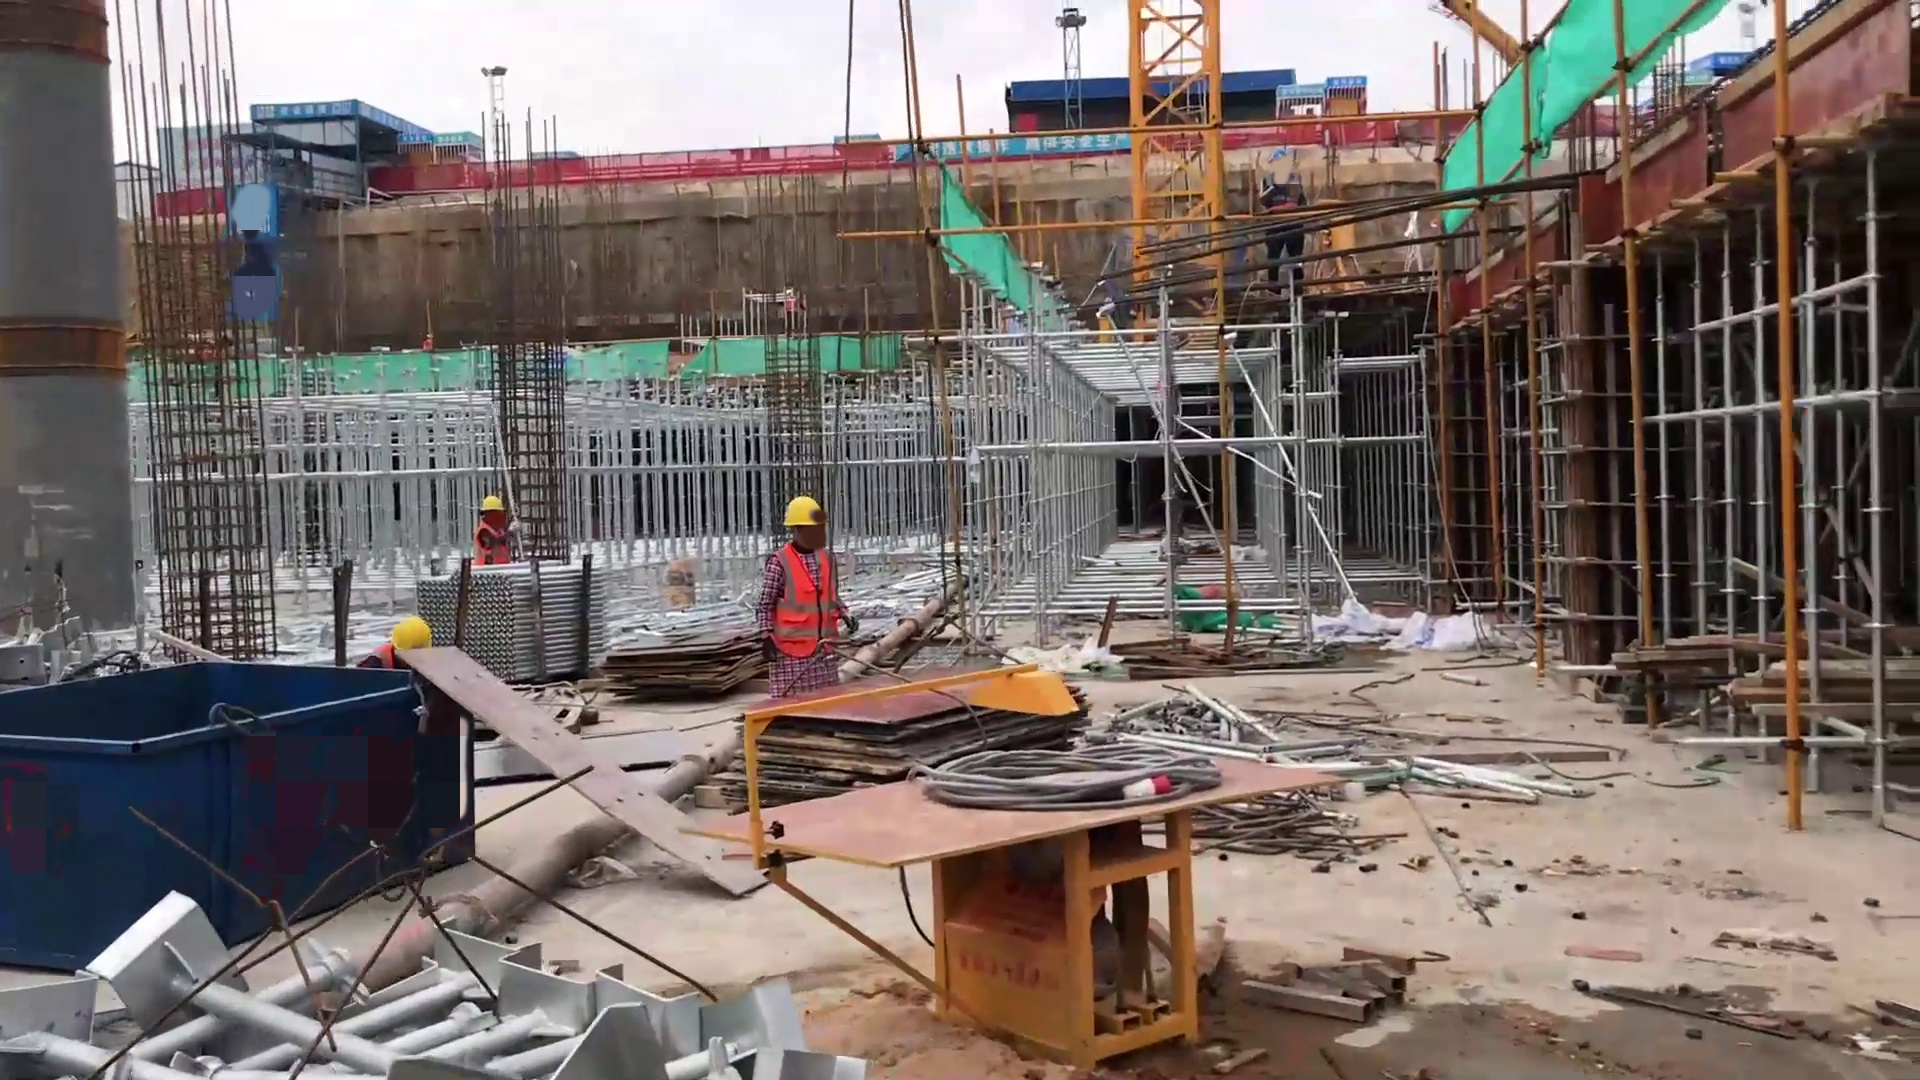board: (746, 674, 1103, 770), (599, 624, 771, 698)
cutter: (718, 650, 1279, 1038)
fence: (380, 109, 1666, 196)
helmet: (779, 493, 834, 530), (388, 616, 439, 646), (476, 492, 510, 512), (1268, 146, 1293, 163)
hopper: (4, 646, 481, 926)
person: (759, 499, 849, 706), (1259, 147, 1316, 307), (349, 605, 440, 674), (463, 491, 530, 570)
scaffold: (400, 562, 608, 679)
slogan: (910, 126, 1130, 158), (360, 105, 478, 152)
vest: (766, 544, 852, 654), (1262, 172, 1308, 220), (470, 521, 510, 565), (358, 645, 400, 669)
